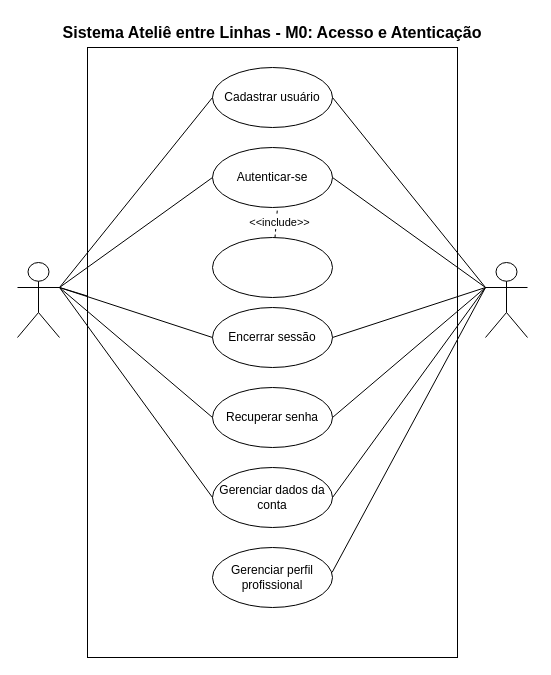
Image size: 551x675. Some labels were removed from this diagram. Here are the shapes that lost their labels. From the top down, the centre of each, then its label:
point 272,267: Redirecionar usuário por perfil após-login
point 38,300: Cliente
point 506,300: Costureira
